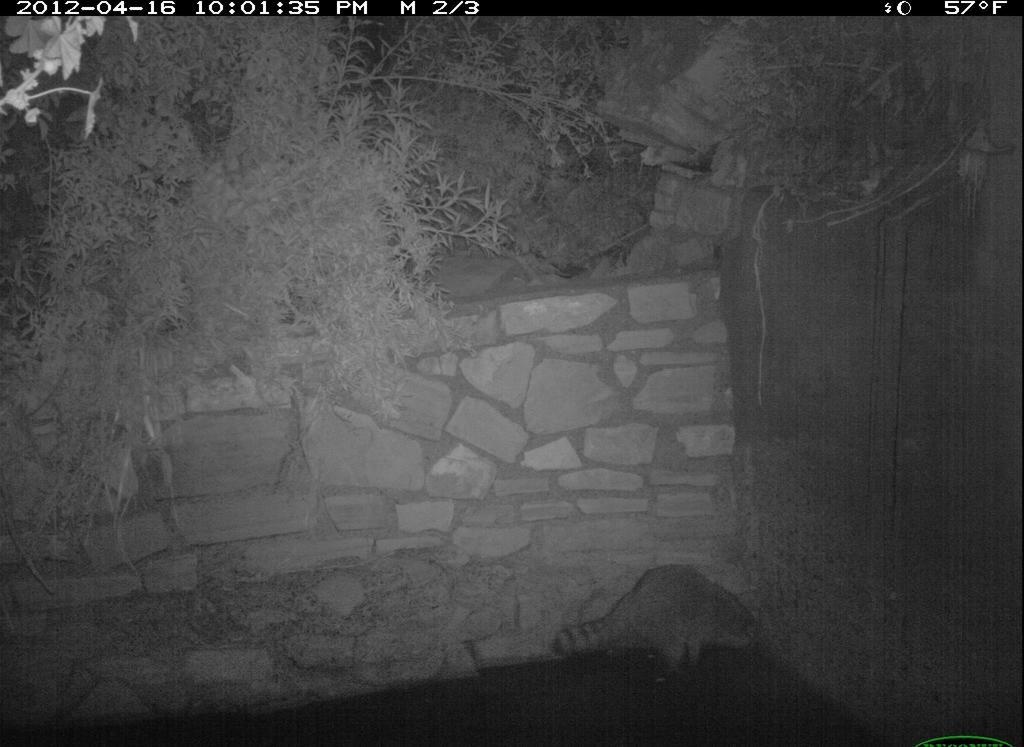raccoon: (542, 545, 789, 683)
